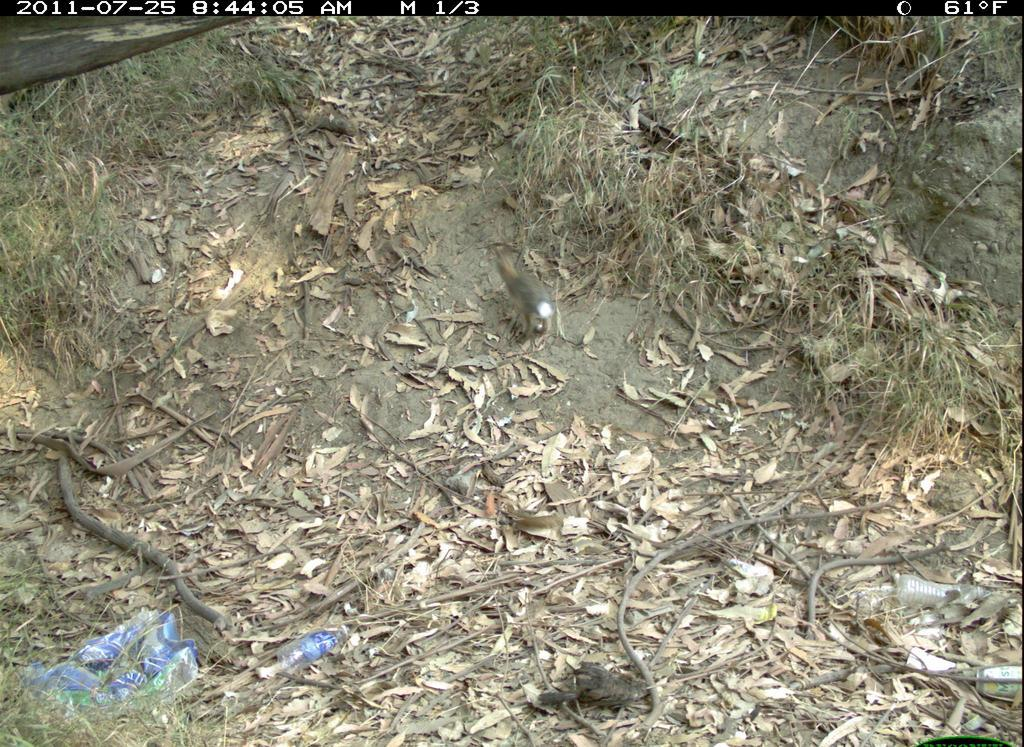rabbit: (489, 248, 557, 347)
